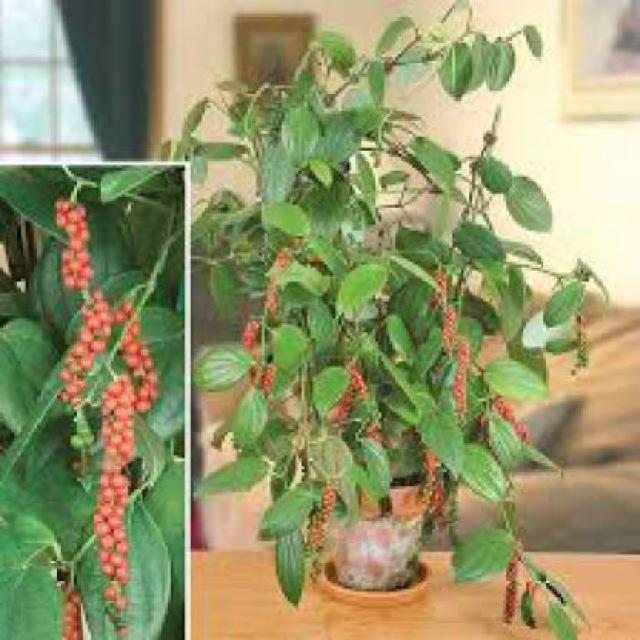RIPE: (94, 379, 145, 603), (125, 282, 177, 416), (60, 288, 111, 419), (51, 197, 94, 294), (449, 331, 482, 422), (500, 546, 529, 620), (339, 368, 368, 429), (308, 485, 331, 556), (422, 445, 445, 506), (63, 575, 83, 637), (259, 348, 288, 385)
